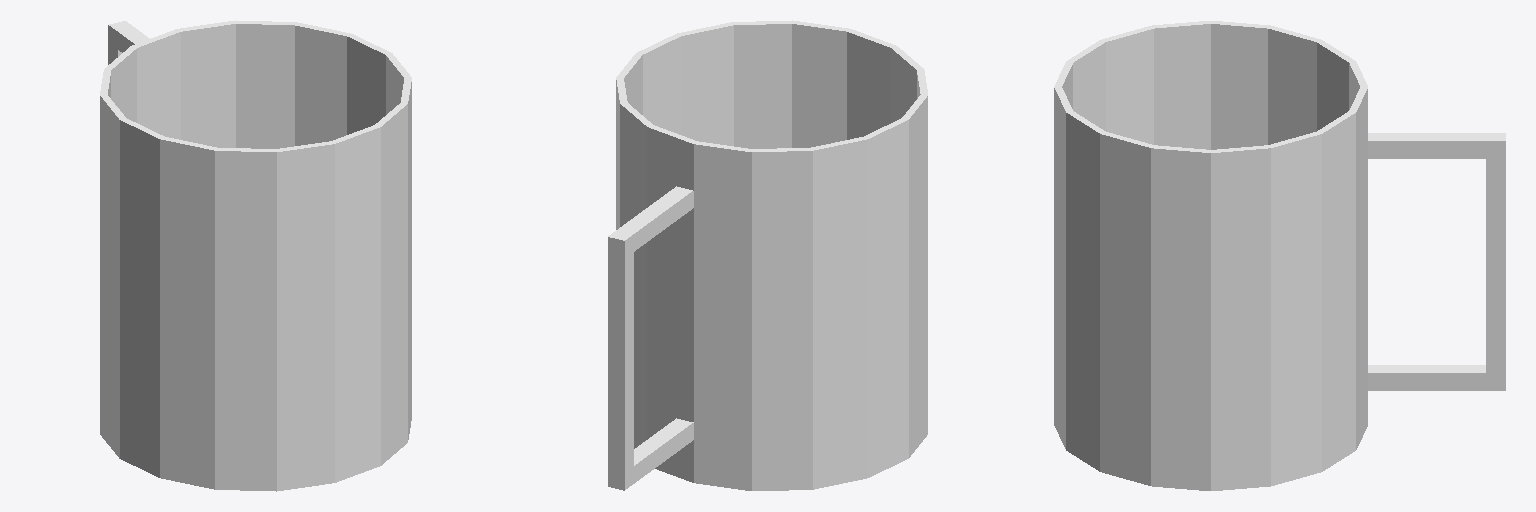
robot.urdf — room73b2-mug-cup:
<?xml version="1.0"?>
<robot name="room73b2-mug-cup"
       xmlns:xi="http://www.w3.org/2001/XInclude"
       xmlns:gazebo="http://playerstage.sourceforge.net/gazebo/xmlschema/#gz"
       xmlns:model="http://playerstage.sourceforge.net/gazebo/xmlschema/#model"
       xmlns:sensor="http://playerstage.sourceforge.net/gazebo/xmlschema/#sensor"
       xmlns:body="http://playerstage.sourceforge.net/gazebo/xmlschema/#body"
       xmlns:geom="http://playerstage.sourceforge.net/gazebo/xmlschema/#geom"
       xmlns:joint="http://playerstage.sourceforge.net/gazebo/xmlschema/#joint"
       xmlns:interface="http://playerstage.sourceforge.net/gazebo/xmlschema/#interface"
       xmlns:rendering="http://playerstage.sourceforge.net/gazebo/xmlschema/#rendering"
       xmlns:renderable="http://playerstage.sourceforge.net/gazebo/xmlschema/#renderable"
       xmlns:controller="http://playerstage.sourceforge.net/gazebo/xmlschema/#controller"
       xmlns:physics="http://playerstage.sourceforge.net/gazebo/xmlschema/#physics">
  <gazebo>
    <static>false</static>
  </gazebo>
  <link name="nil_link">
    <visual>
      <origin xyz="0 0 0" rpy="0 -0 0"/>
      <geometry>
        <mesh filename="model://room73b2-mug-cup/meshes/nil_link_mesh.dae" scale="1 1 1" />
      </geometry>
    </visual>
    <collision>
      <origin xyz="0 0 0" rpy="0 -0 0"/>
      <geometry>
        <mesh filename="model://room73b2-mug-cup/meshes/nil_link_mesh.dae" scale="1 1 1" />
      </geometry>
    </collision>
    <inertial>
      <mass value="0.001" />
      <origin xyz="0 0 0" rpy="0 -0 0"/>
      <inertia ixx="1e-09" ixy="0" ixz="0" iyy="1e-09" iyz="0" izz="1e-09"/>
    </inertial>
  </link>
  <gazebo reference="nil_link">
    <mu1>0.9</mu1>
    <mu2>0.9</mu2>
  </gazebo>
</robot>

--- Render facts (derived) ---
3 views of the same robot in one strip: view 1: azimuth 30°, elevation 25°; view 2: azimuth 150°, elevation 25°; view 3: azimuth 270°, elevation 25° (orthographic).
Model room73b2-mug-cup with 1 links and 0 joints (none), rooted at nil_link, posed all joints at 0.
Links seen in each view (by area): view 1: nil_link; view 2: nil_link; view 3: nil_link.
Link boxes in pixels (x1,y1,x2,y2): nil_link: (100, 20, 411, 491); nil_link: (608, 20, 927, 490); nil_link: (1054, 21, 1505, 490).
Size in the robot's own frame: 0.08 by 0.115 by 0.095 metres.
1 mesh visuals loaded from 1 distinct referenced files (1 Collada DAE).
